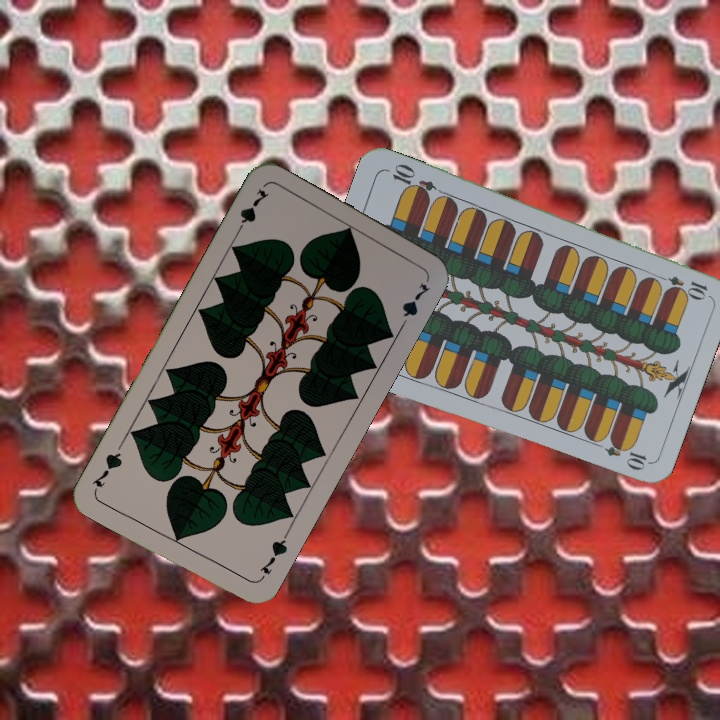E10: (652, 270, 710, 300)
G7: (231, 185, 272, 239), (255, 529, 291, 584)
